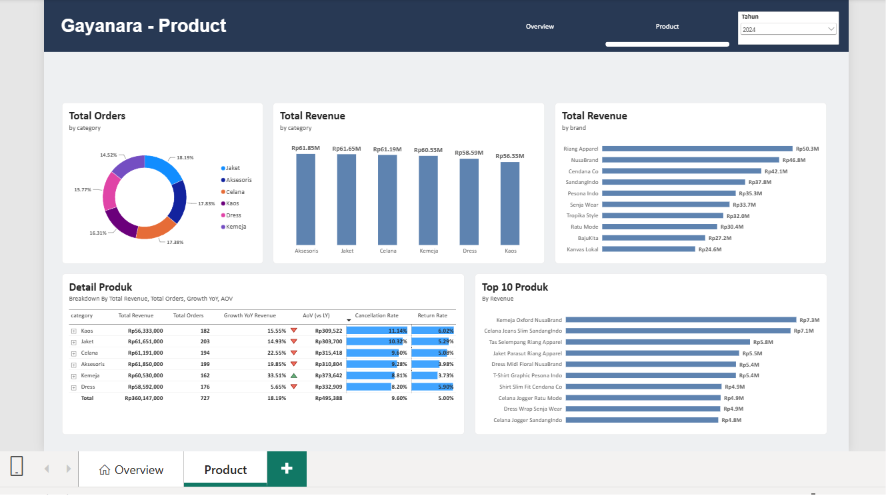

This screenshot's page, from the dashboard's own definition file:
{"tool":"powerbi","page":{"name":"Product","canvas":[1920,1080],"ordinal":1},"visuals":[{"type":"shape","box":[0,0,1920,127],"z":0},{"type":"textbox","box":[40,40,773.3,70],"z":1000},{"type":"pivotTable","title":"Detail Produk","fields":{"Rows":["products.category","products.name"],"Values":["_Measure.Total Revenue","_Measure.Total Orders","_Measure.Growth YoY Revenue","_Measure.Average Order Value","_Measure.Cancellation Rate","_Measure.Return Rate"]},"box":[43.3,655.1,960,384],"z":2000},{"type":"donutChart","fields":{"Category":["products.category"],"Y":["_Measure.Total Orders"]},"box":[43.3,247.1,480,384],"z":3000},{"type":"barChart","title":"Top 10 Produk","fields":{"Category":["products.name"],"Y":["_Measure.Total Revenue"]},"box":[1027.3,655.1,840,384],"z":4000},{"type":"columnChart","fields":{"Category":["products.category"],"Y":["_Measure.Total Revenue"]},"box":[547.3,247.1,648,384],"z":5000},{"type":"clusteredBarChart","fields":{"Category":["products.brand"],"Y":["_Measure.Total Revenue"]},"box":[1219.3,247.1,648,384],"z":6000},{"type":"slicer","fields":{"Values":["date_table.year Hierarchy.year"]},"box":[1655.8,31,241,78.7],"z":7000},{"type":"group","id":"g1","title":"Group 1","box":[1036.4,31.2,600,84],"z":8000},{"type":"pageNavigator","box":[1036.4,31.2,600,72],"z":8500,"group":"g1"},{"type":"pageNavigator","box":[1036.4,103.2,600,12],"z":9000,"group":"g1"}]}

Visuals, with their boxes on the page's 1920x1080 design canvas (x1, y1, x2, y2). These are canvas units, not pixel positions in the 886x495 screenshot, which may show the page scaled, cropped or inside an application window:
shape: 0 0 1920 127
textbox: 40 40 813 110
"Detail Produk" pivotTable: 43 655 1003 1039
donutChart - products.category x _Measure.Total Orders: 43 247 523 631
"Top 10 Produk" barChart: 1027 655 1867 1039
columnChart - products.category x _Measure.Total Revenue: 547 247 1195 631
clusteredBarChart - products.brand x _Measure.Total Revenue: 1219 247 1867 631
slicer - date_table.year Hierarchy.year: 1656 31 1897 110
"Group 1" group: 1036 31 1636 115
pageNavigator: 1036 31 1636 103
pageNavigator: 1036 103 1636 115
